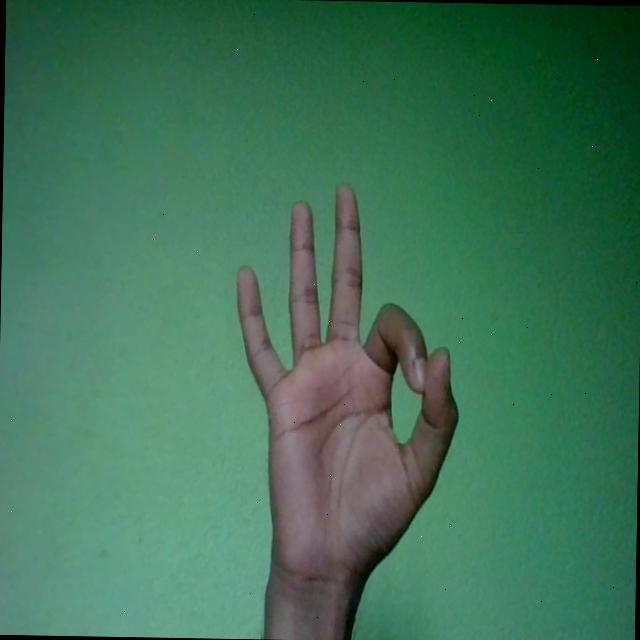Rock On: (230, 176, 462, 600)
